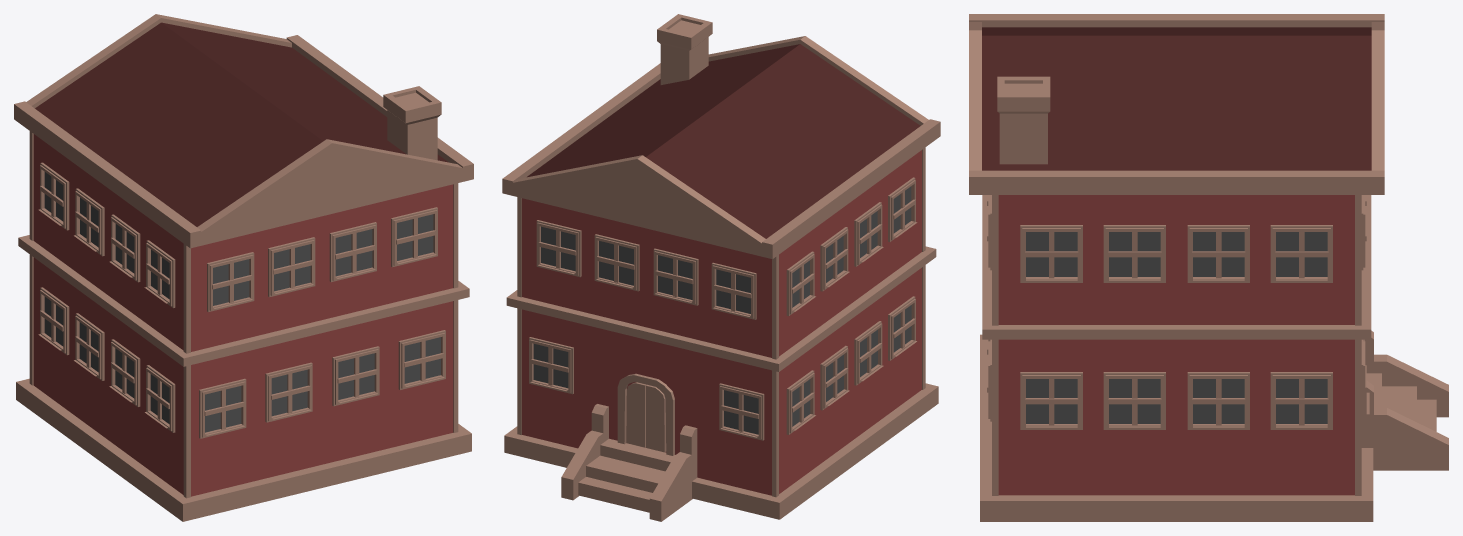
Rendered from 2StoryHouse.fbx.
3 views of the same model, side by side, from view 1: azimuth 30°, elevation 25°; view 2: azimuth 150°, elevation 25°; view 3: azimuth 270°, elevation 25° (orthographic). The views are drawn at different scales.
Visible parts, largest first — view 1: StoryHouse, Cube.013, Cube.014, Cube.011, Cube.010, Cube.012; view 2: StoryHouse, Cube.009, Cube.013, Cube.014, Cube.011, Cube.010; view 3: StoryHouse, Cube.013, Cube.011, Cube.009, Cube.014, Cube.010.
Boxes of the visible parts, x1,y1,x2,y2 form: StoryHouse: (14,14,473,521); Cube.013: (29,131,458,498); Cube.014: (207,207,437,312); Cube.011: (38,287,175,432); Cube.010: (199,330,445,438); Cube.012: (265,346,379,422); StoryHouse: (502,14,940,519); Cube.009: (561,373,697,521); Cube.013: (517,147,925,497); Cube.014: (536,220,756,319); Cube.011: (786,296,916,434); Cube.010: (529,337,764,440); StoryHouse: (969,14,1384,521); Cube.013: (992,195,1361,495); Cube.011: (1020,372,1332,429); Cube.009: (1361,330,1448,470); Cube.014: (984,195,1369,270); Cube.010: (984,339,1369,421).
Size of the model in its own units: 214 by 248 by 262.
